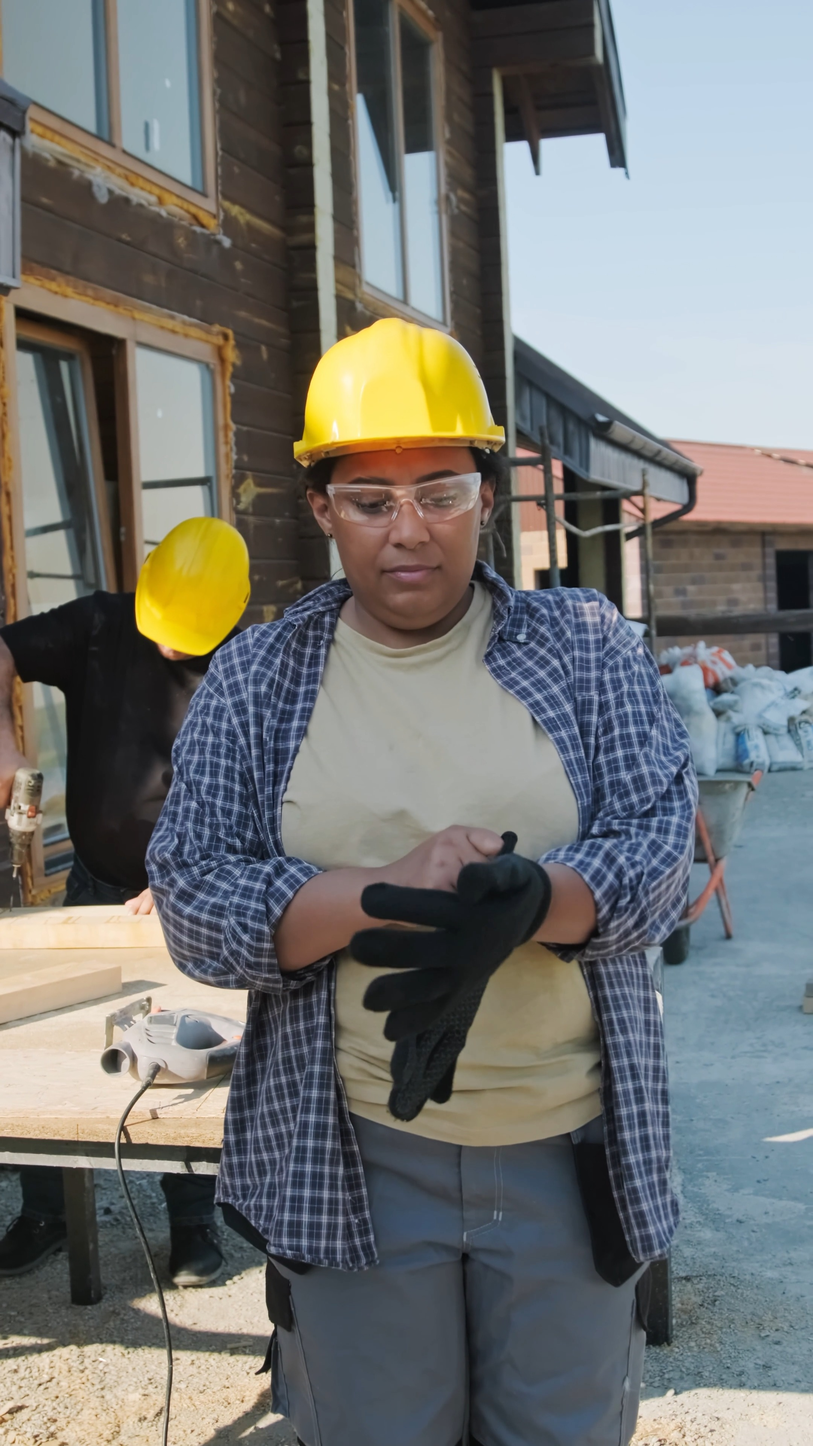gloves: (361, 879, 565, 1135)
